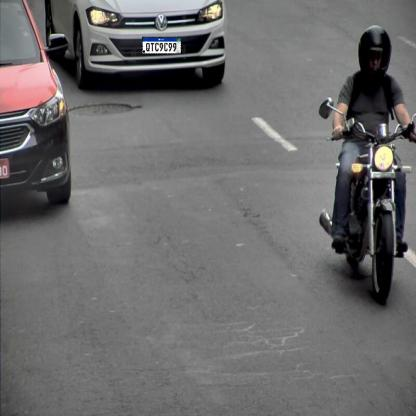PlacaM: (142, 37, 181, 54)
